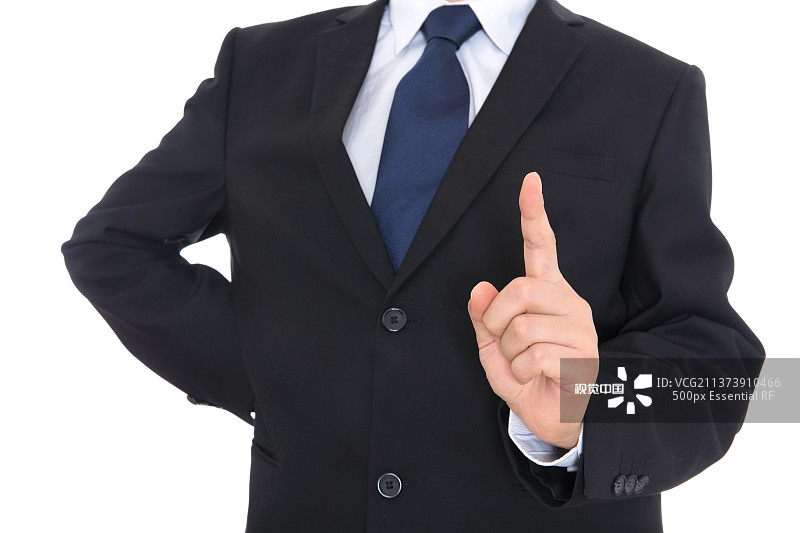no-phone: (445, 157, 627, 456)
